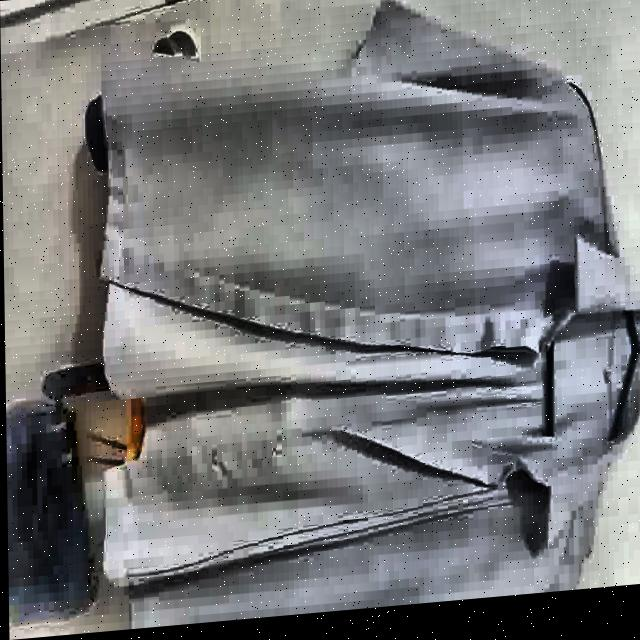clothes: (86, 0, 640, 632)
